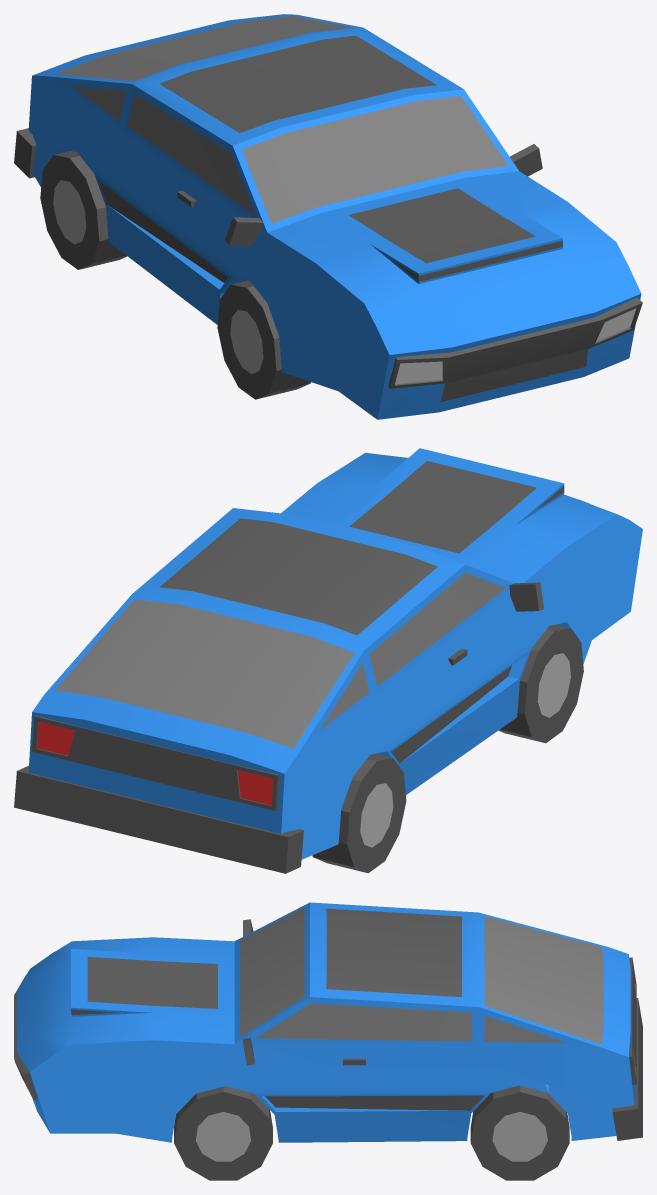
File: SM_Car_06_02.FBX
3 views of the same model, one above another, from view 1: azimuth 30°, elevation 25°; view 2: azimuth 150°, elevation 25°; view 3: azimuth 270°, elevation 25° (orthographic). The views are drawn at different scales.
Parts seen in each view (by area): view 1: SM_Car_06_02, SM_Wheel_RBack001, SM_Wheel_LFront001; view 2: SM_Car_06_02, SM_Wheel_RBack001, SM_Wheel_LFront001; view 3: SM_Car_06_02, SM_Wheel_LBack001, SM_Wheel_LFront002.
Part boxes in pixels (x1=…): SM_Car_06_02: x1=14, y1=14, x2=642, y2=419; SM_Wheel_RBack001: x1=40, y1=151, x2=127, y2=269; SM_Wheel_LFront001: x1=217, y1=280, x2=310, y2=399; SM_Car_06_02: x1=14, y1=448, x2=642, y2=873; SM_Wheel_RBack001: x1=312, y1=753, x2=406, y2=873; SM_Wheel_LFront001: x1=498, y1=624, x2=583, y2=743; SM_Car_06_02: x1=14, y1=902, x2=642, y2=1142; SM_Wheel_LBack001: x1=470, y1=1085, x2=569, y2=1180; SM_Wheel_LFront002: x1=174, y1=1086, x2=272, y2=1180.
Size of the model in its own units: 1.52 by 0.9605 by 3.15.
1 material, 1 textured.
